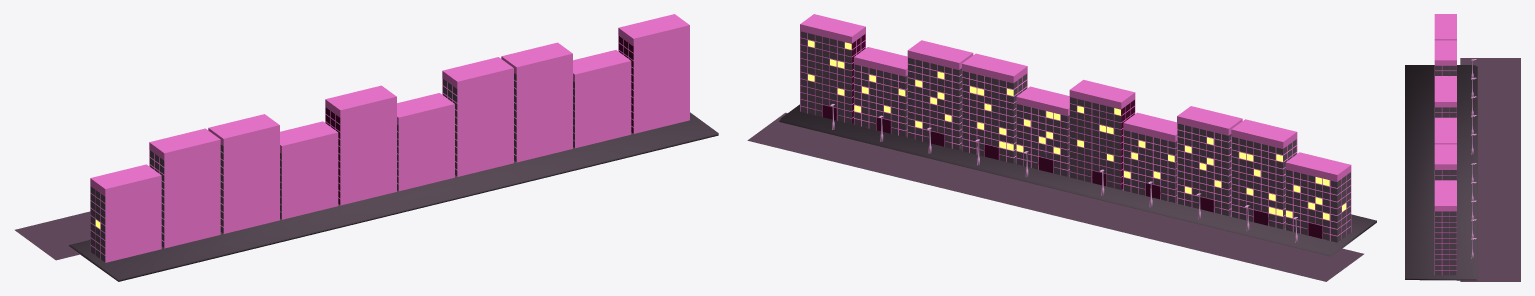
File: CityScene.fbx
3 views of the same model, side by side, from view 1: azimuth 30°, elevation 25°; view 2: azimuth 150°, elevation 25°; view 3: azimuth 270°, elevation 25° (orthographic). The views are drawn at different scales.
Parts seen in each view (by area): view 1: Cube.002, Cube.010, Cube.005, Cube.001, Cube.007, Cube.009, Cube.004, Cube.011, Cube.003, Cube.008, Cube.006, Plane; view 2: Plane, Cube.002, Cube.010, Cube.007, Cube.005, Cube.001, Cube.009, Cube.004, Cube.011, Cube.006, Cube.003, Cube.008; view 3: Cube.002, Plane, Cube.001, Cube.004, Cube.009, Cube.007, Cube.005, Cube.010, Cylinder.001, Cylinder, Cube.003, Cube.006 (+2 smaller).
Part boxes in pixels (x1,y1,x2,y2): Cube.002: (69, 112, 718, 281); Cube.010: (149, 128, 220, 248); Cube.005: (442, 57, 513, 176); Cube.001: (618, 14, 689, 133); Cube.007: (325, 85, 396, 205); Cube.009: (208, 114, 279, 233); Cube.004: (501, 42, 572, 162); Cube.011: (90, 164, 161, 262); Cube.003: (573, 50, 631, 148); Cube.008: (280, 121, 338, 219); Cube.006: (397, 93, 454, 191); Plane: (15, 211, 90, 260); Plane: (747, 112, 1363, 281); Cube.002: (779, 104, 1376, 256); Cube.010: (1231, 119, 1297, 229); Cube.007: (1069, 79, 1135, 189); Cube.005: (962, 53, 1027, 163); Cube.001: (800, 14, 865, 124); Cube.009: (1177, 106, 1242, 215); Cube.004: (907, 40, 973, 150); Cube.011: (1285, 152, 1351, 242); Cube.006: (1016, 86, 1069, 176); Cube.003: (854, 47, 907, 137); Cube.008: (1123, 112, 1176, 202); Cube.002: (1405, 65, 1477, 280); Plane: (1460, 58, 1520, 281); Cube.001: (1434, 186, 1456, 275); Cube.004: (1434, 144, 1456, 180); Cube.009: (1434, 40, 1456, 76); Cube.007: (1434, 82, 1456, 117); Cube.005: (1434, 123, 1456, 144); Cube.010: (1434, 19, 1456, 40); Cylinder.001: (1471, 59, 1476, 154); Cylinder: (1471, 163, 1476, 258); Cube.003: (1434, 180, 1456, 185); Cube.006: (1434, 118, 1456, 123).
Size of the model in its own units: 4788 by 715 by 1048.
